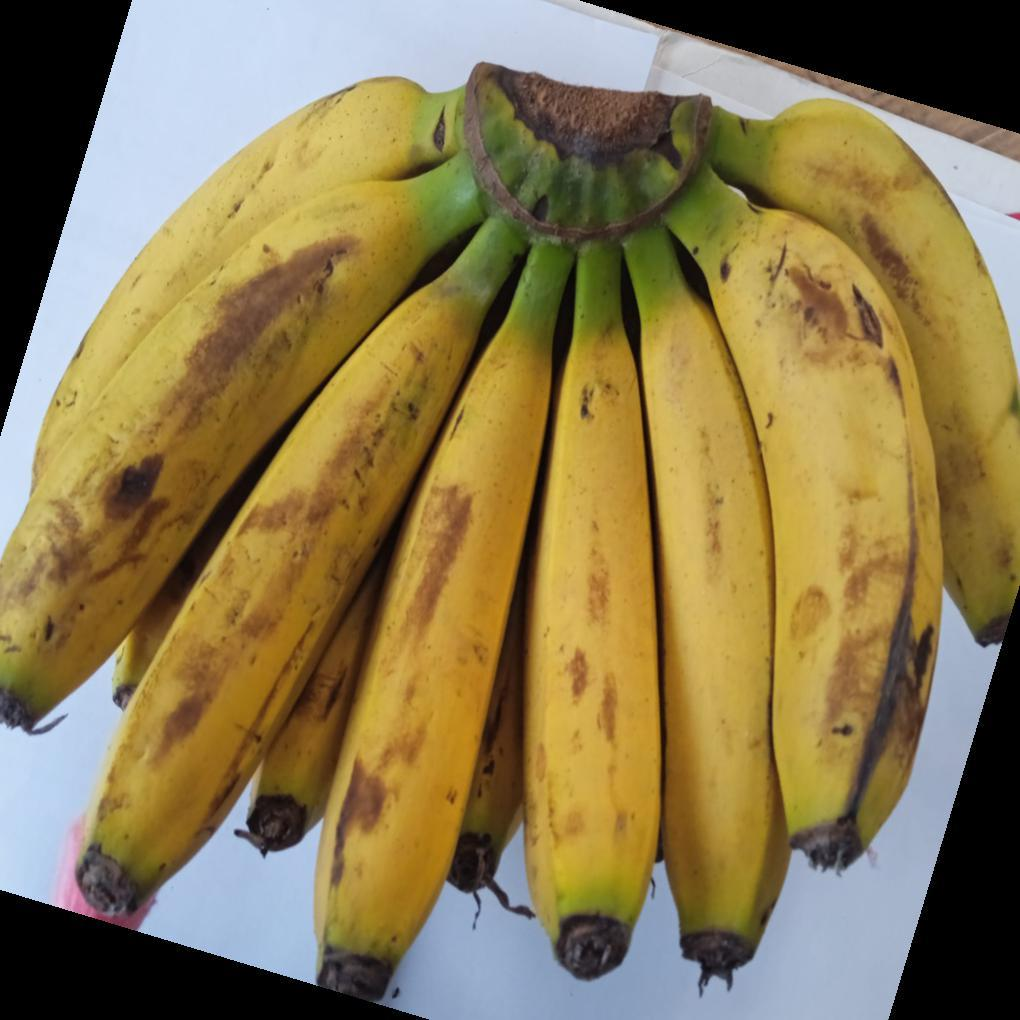Banana Ripe: (3, 28, 1020, 1020), (16, 80, 545, 1020), (63, 165, 535, 1020), (688, 121, 1020, 854), (546, 190, 783, 1020)
